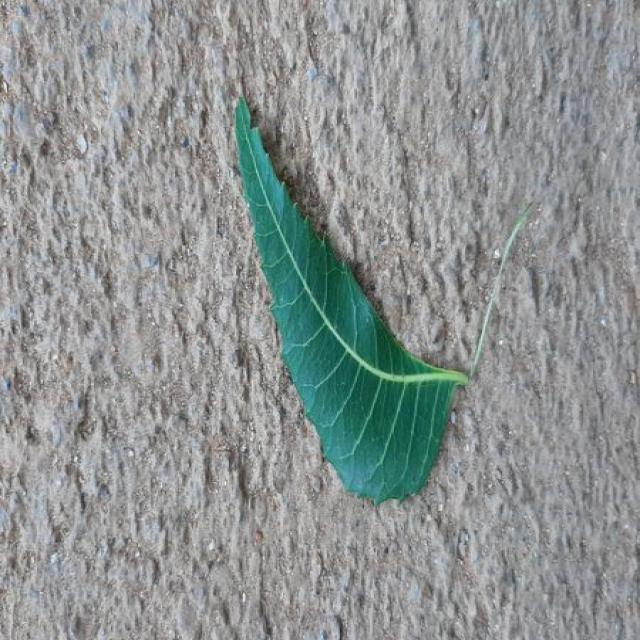neem: (235, 99, 468, 502)
